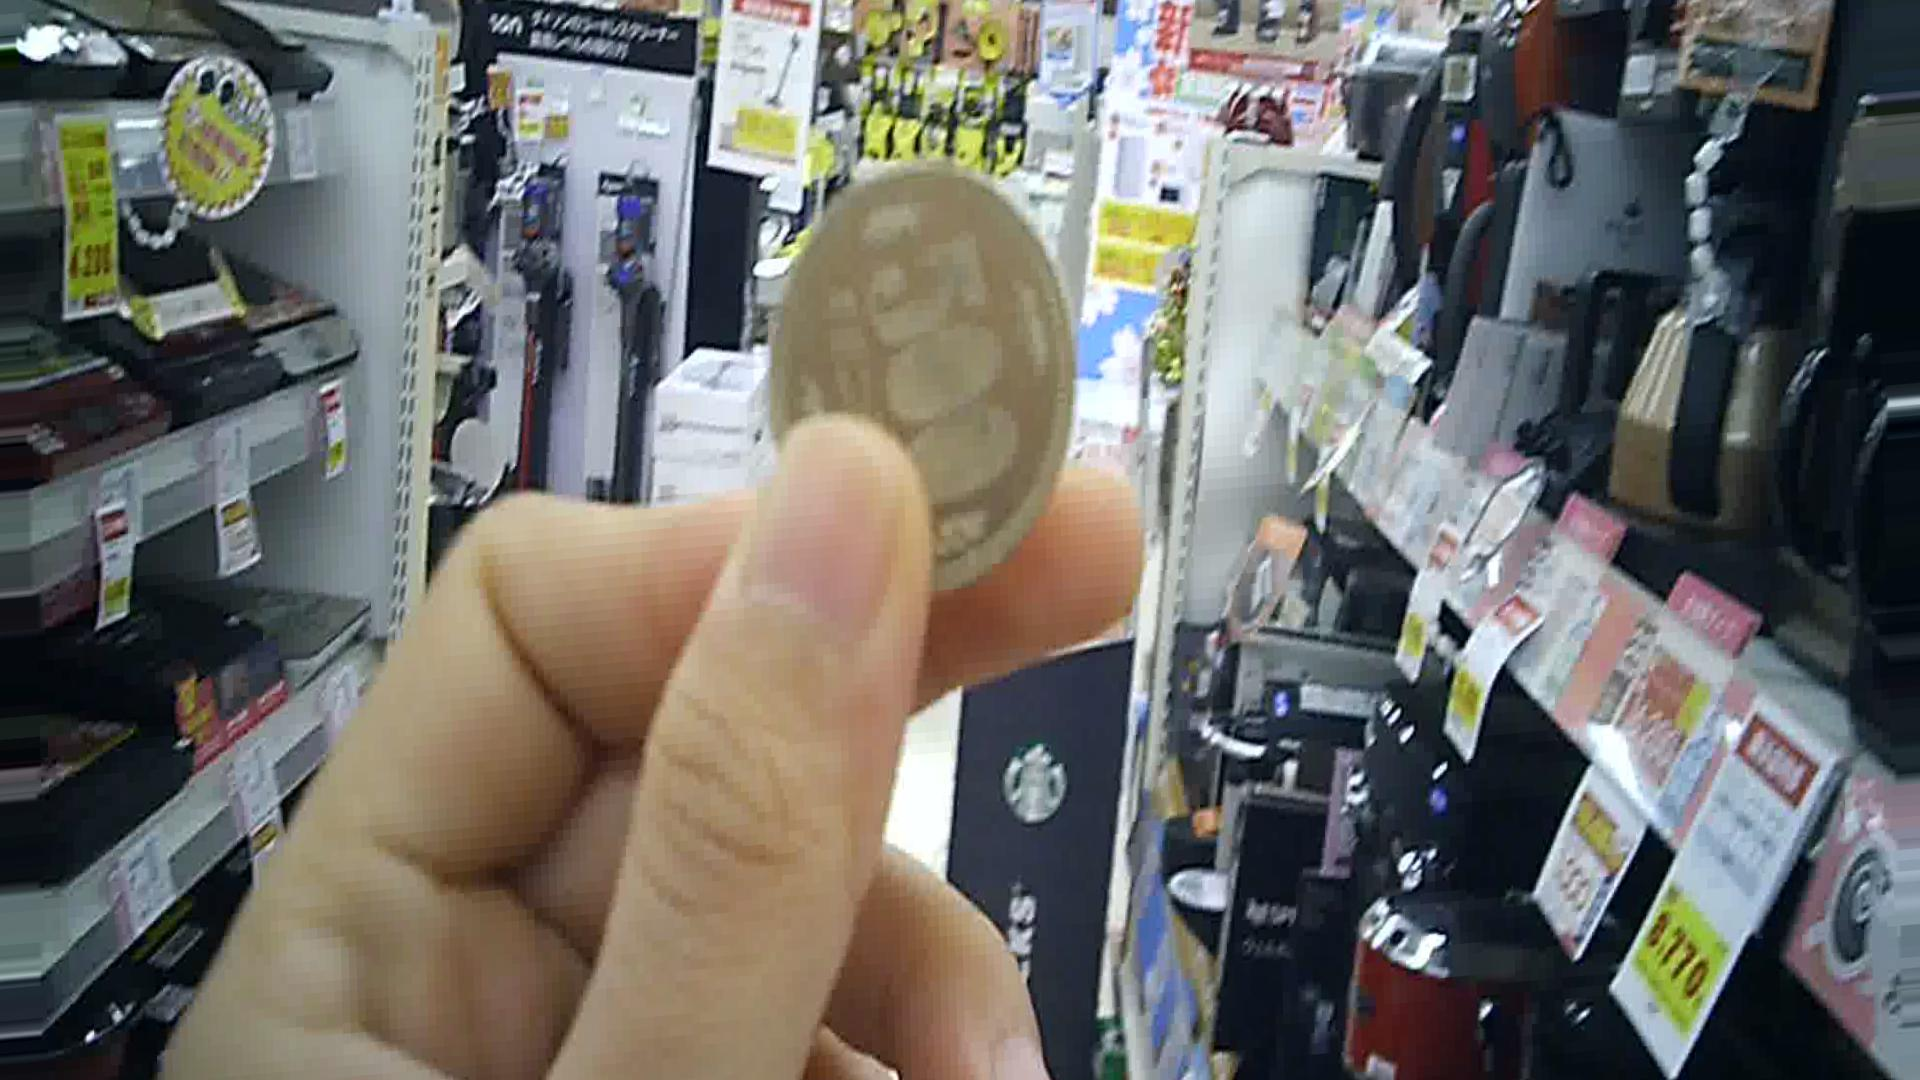500 Yen: (762, 160, 1073, 592)
